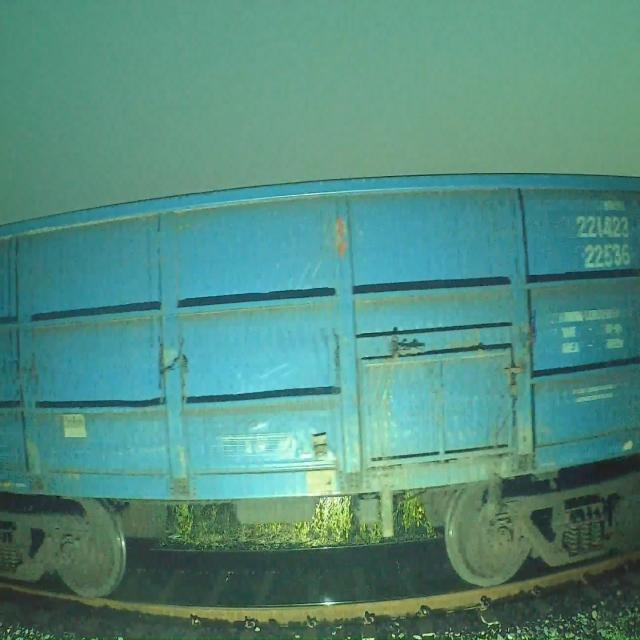WAgon-uic: (0, 169, 637, 597)
uic: (567, 211, 637, 272)
